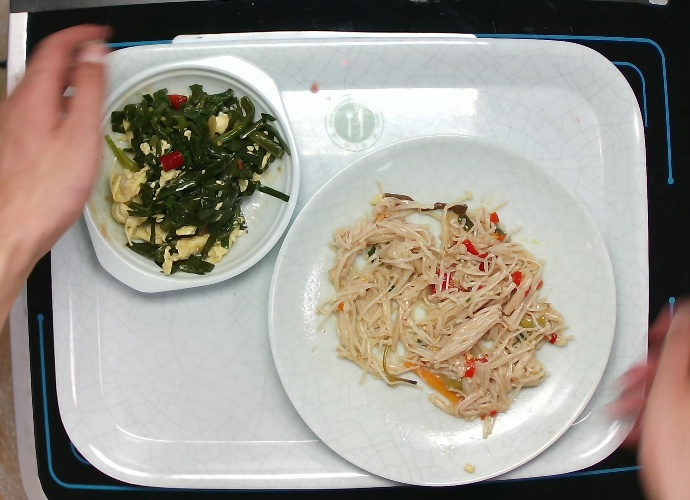JYsf-Da_Yuan_Pan: (265, 132, 619, 488)
JYsf-Shuang_Er_Pan: (80, 51, 303, 295)
